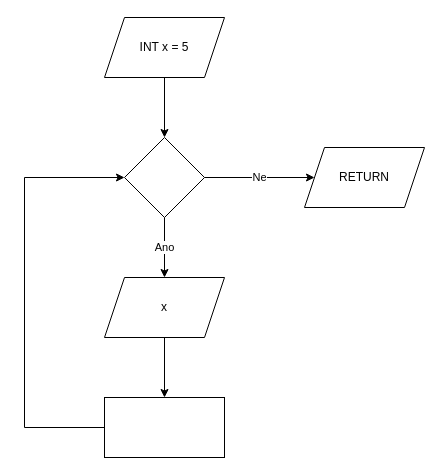
The diagram is 442 pixels wide and 475 high, and some of its shapes have lost their labels. Here are the shapes that lost their labels. From the top down, the centre of each, then its label:
At (x=164, y=177): "x > 0".
At (x=164, y=427): "x = x - 1".
